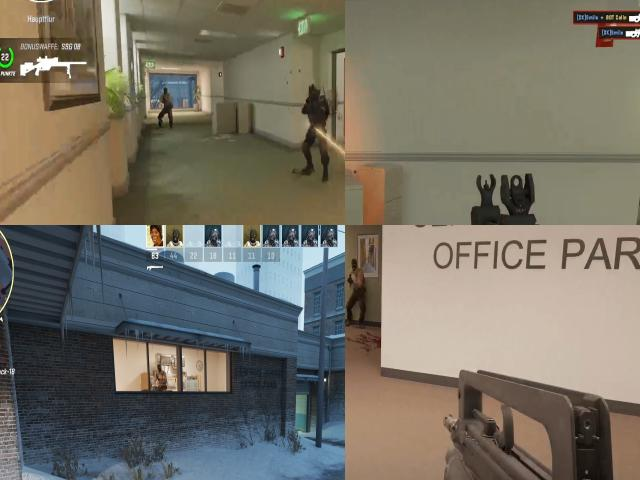CT: (304, 78, 329, 143)
CT-Head: (307, 82, 323, 105)
T: (346, 253, 366, 301), (159, 82, 174, 117), (155, 363, 167, 389)
T-Head: (349, 259, 361, 274), (160, 85, 170, 99), (157, 364, 162, 371)
